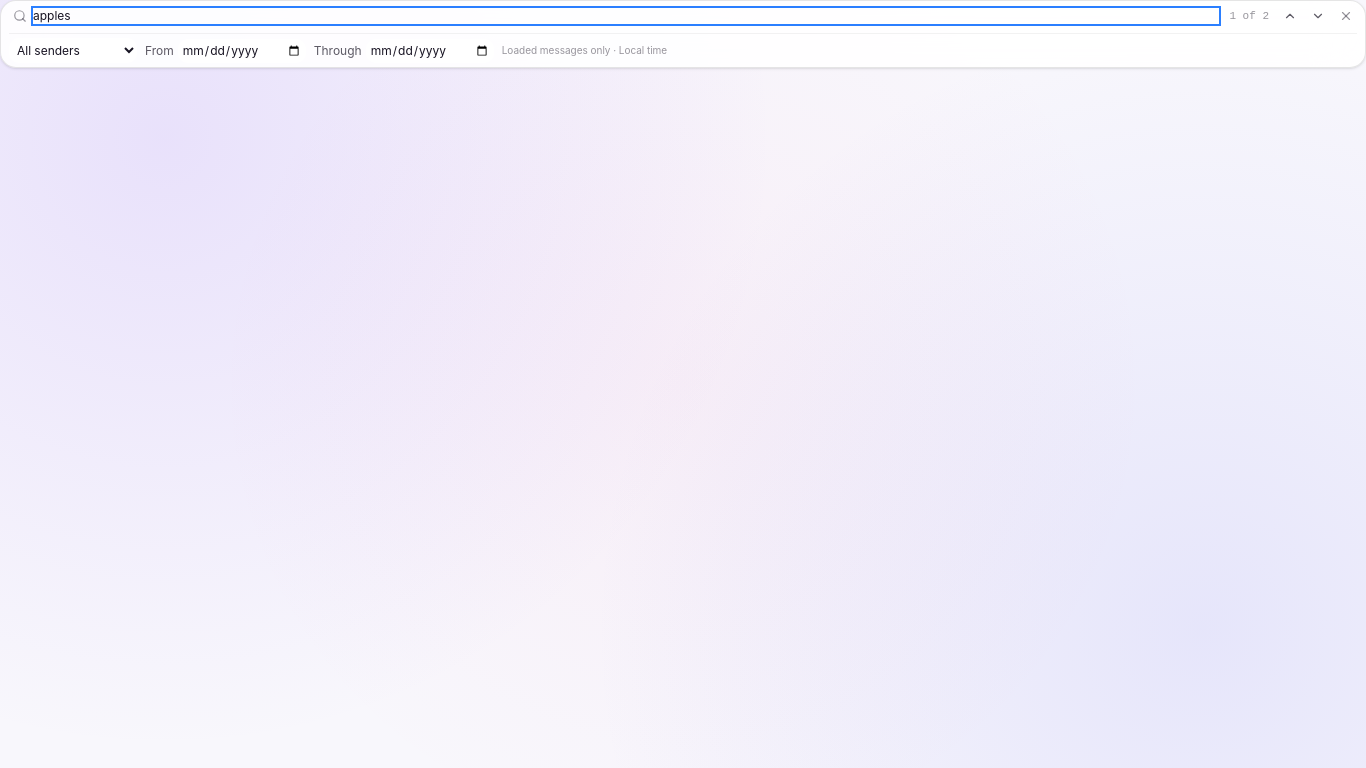
Test case: MessageSearchBar › narrows keyword matches by sender and restores all senders
The image size is (1366, 768).
Select "u-2" in the dropdown with test id "search-sender" at (73,50), box x1=9 y1=38 x2=137 y2=63
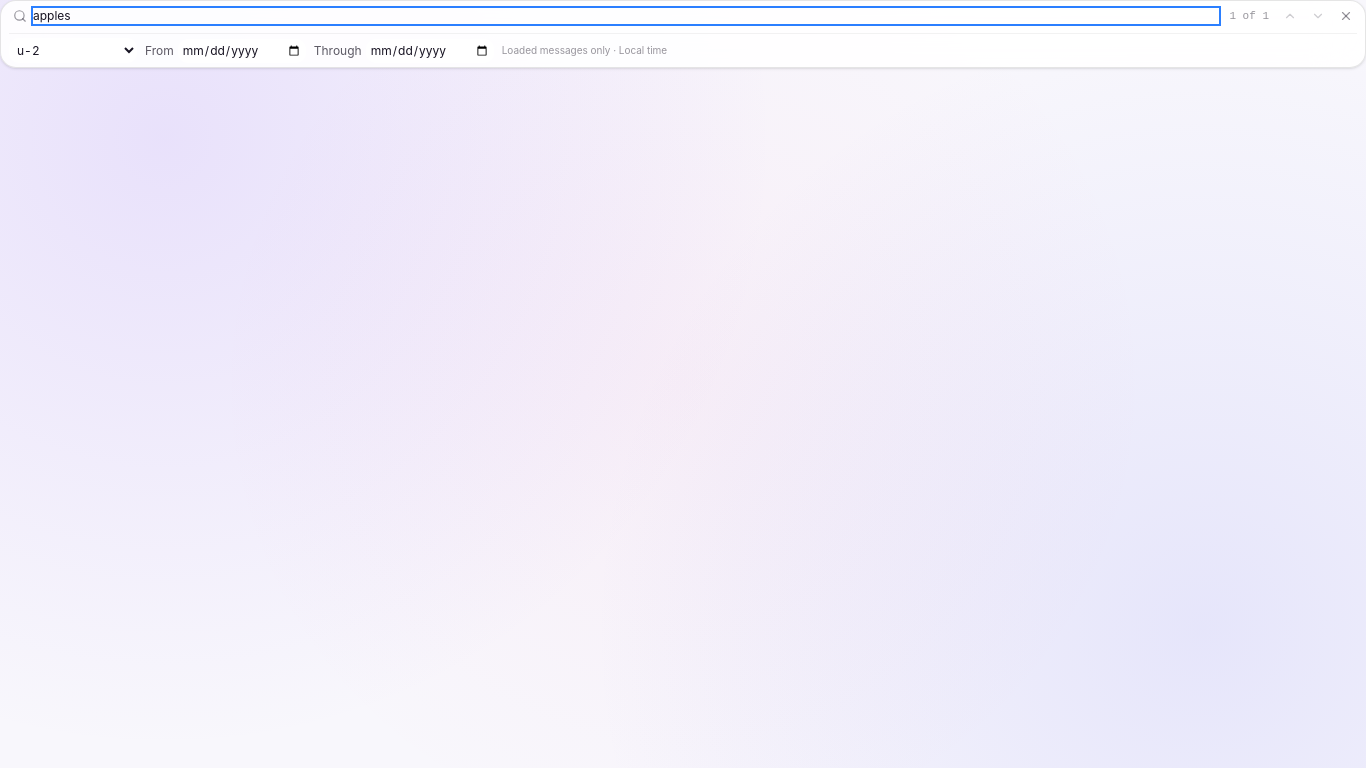
Now the message with test id "search-count" reads "1 of 1", box x1=1229 y1=10 x2=1269 y2=22
Now the button with test id "search-next-btn" is disabled, box x1=1307 y1=5 x2=1329 y2=27
Select "All senders" in the dropdown with test id "search-sender" at (73,50), box x1=9 y1=38 x2=137 y2=63
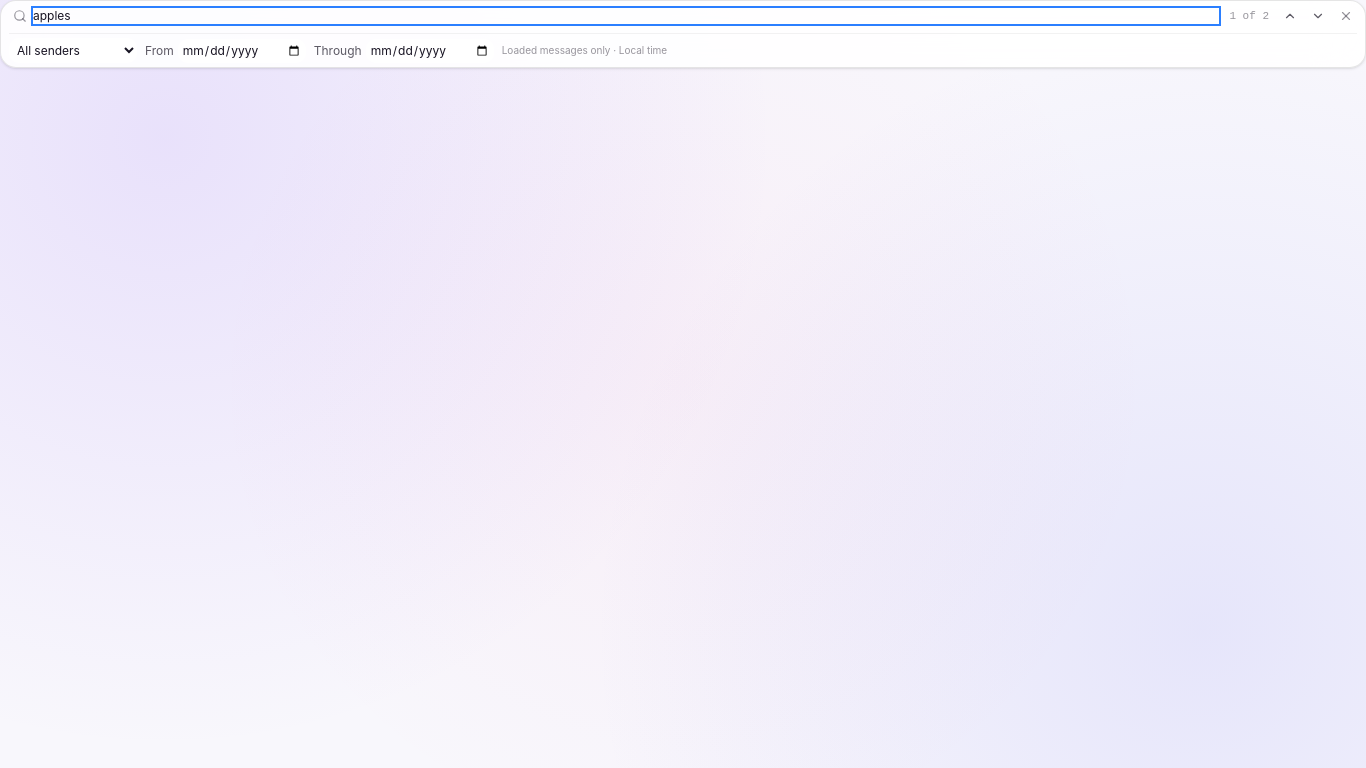
Expected: the text "Loaded messages only" is shown, x1=502 y1=44 x2=667 y2=56
Now the message with test id "search-count" reads "1 of 2", box x1=1229 y1=10 x2=1269 y2=22
